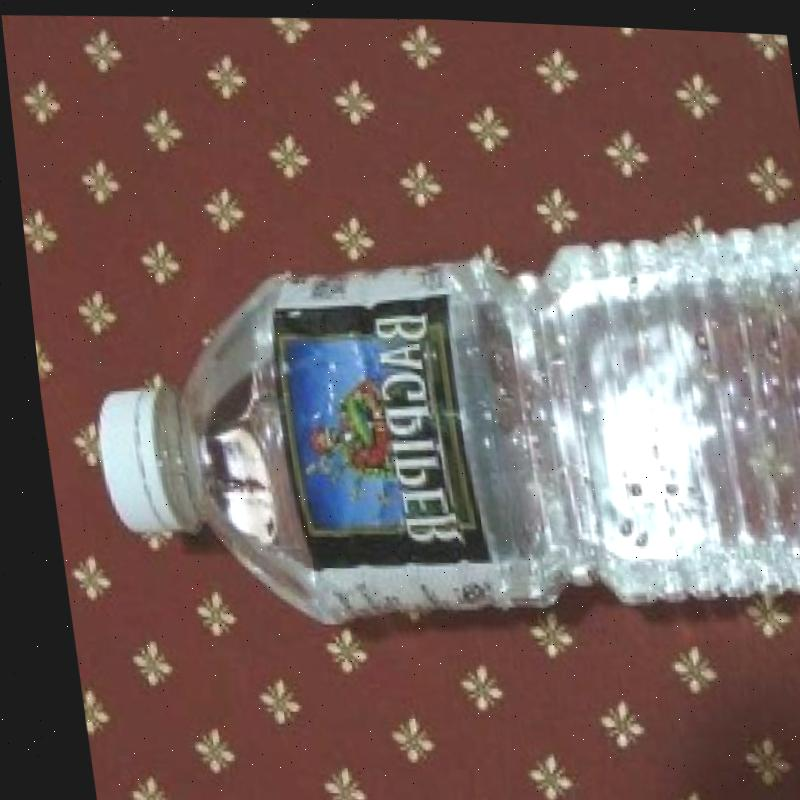botella: (57, 179, 800, 650)
